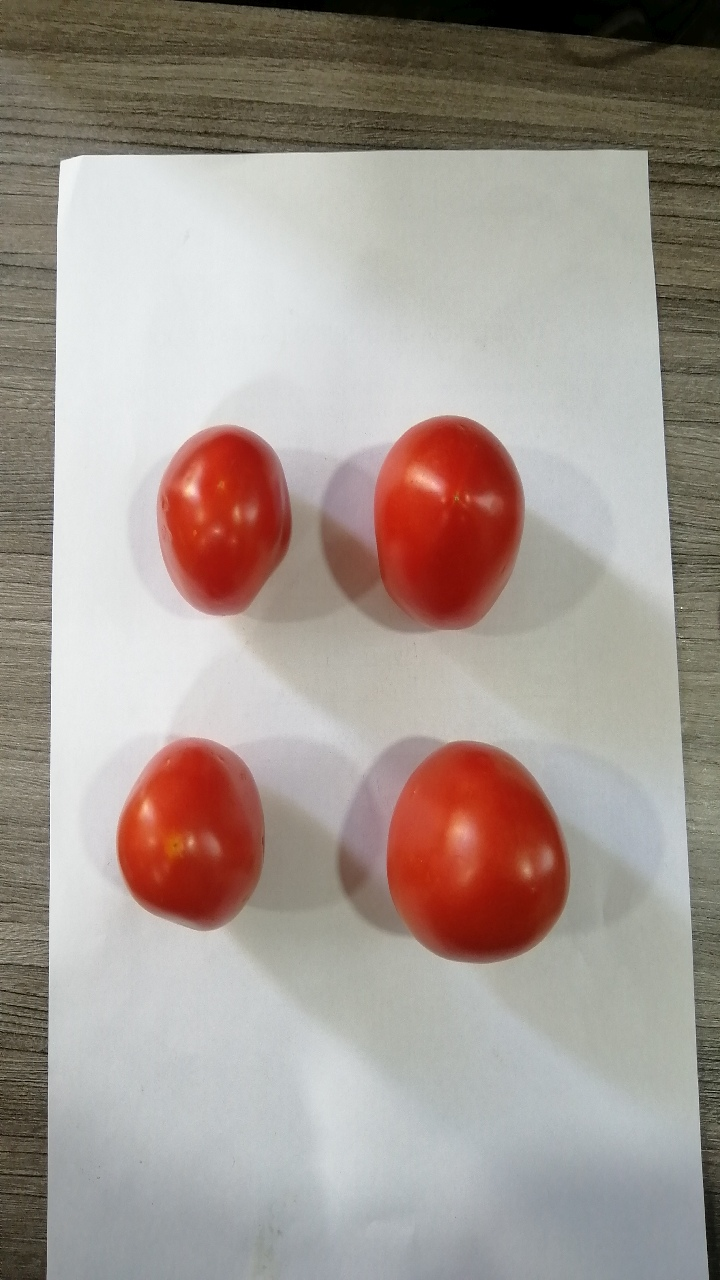tomateRojo: (368, 722, 588, 994), (349, 397, 532, 655), (134, 406, 314, 639), (95, 711, 281, 935)
